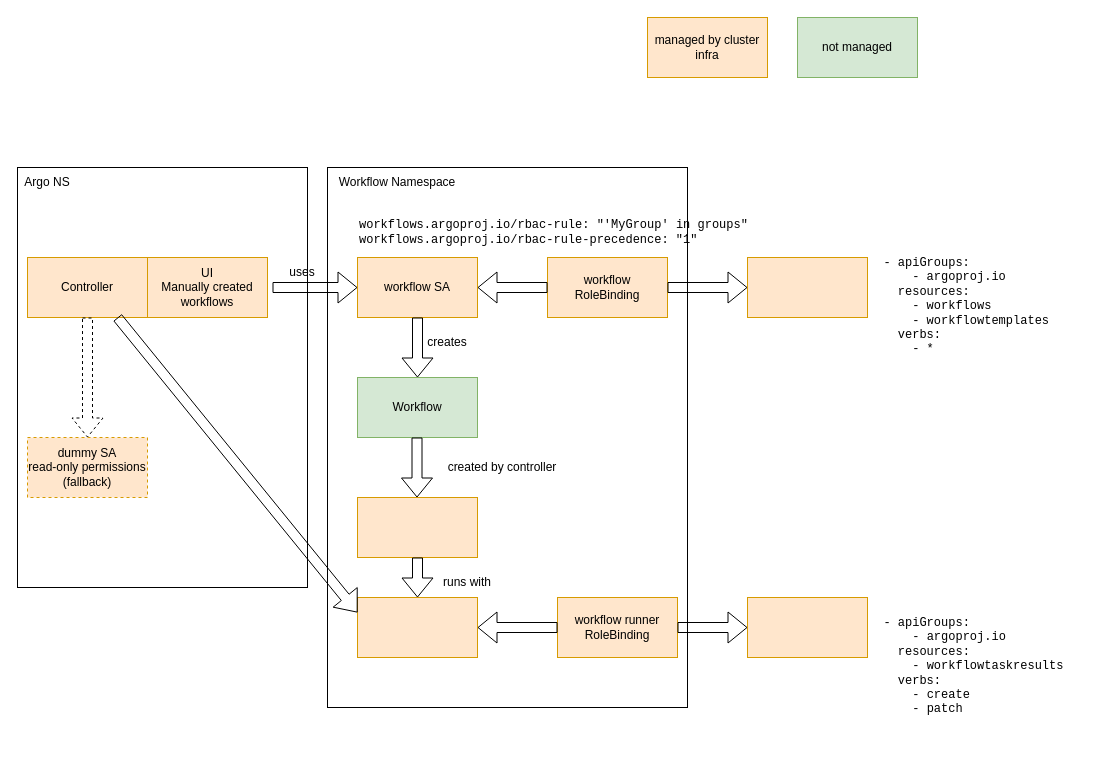
Some shapes in this 1115 by 765 pixel diagram are drawn without their labels. The box of each missing label's shape, as (x1, y1, x2, y2) in pixels:
POD: (356, 496, 478, 558)
workflow ClusterRole: (746, 256, 868, 318)
workflow default SA: (356, 596, 478, 658)
workflow runner ClusterRole: (746, 596, 868, 658)
